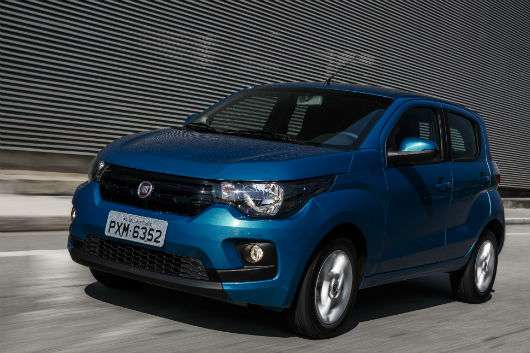Carro: (59, 72, 513, 336)
